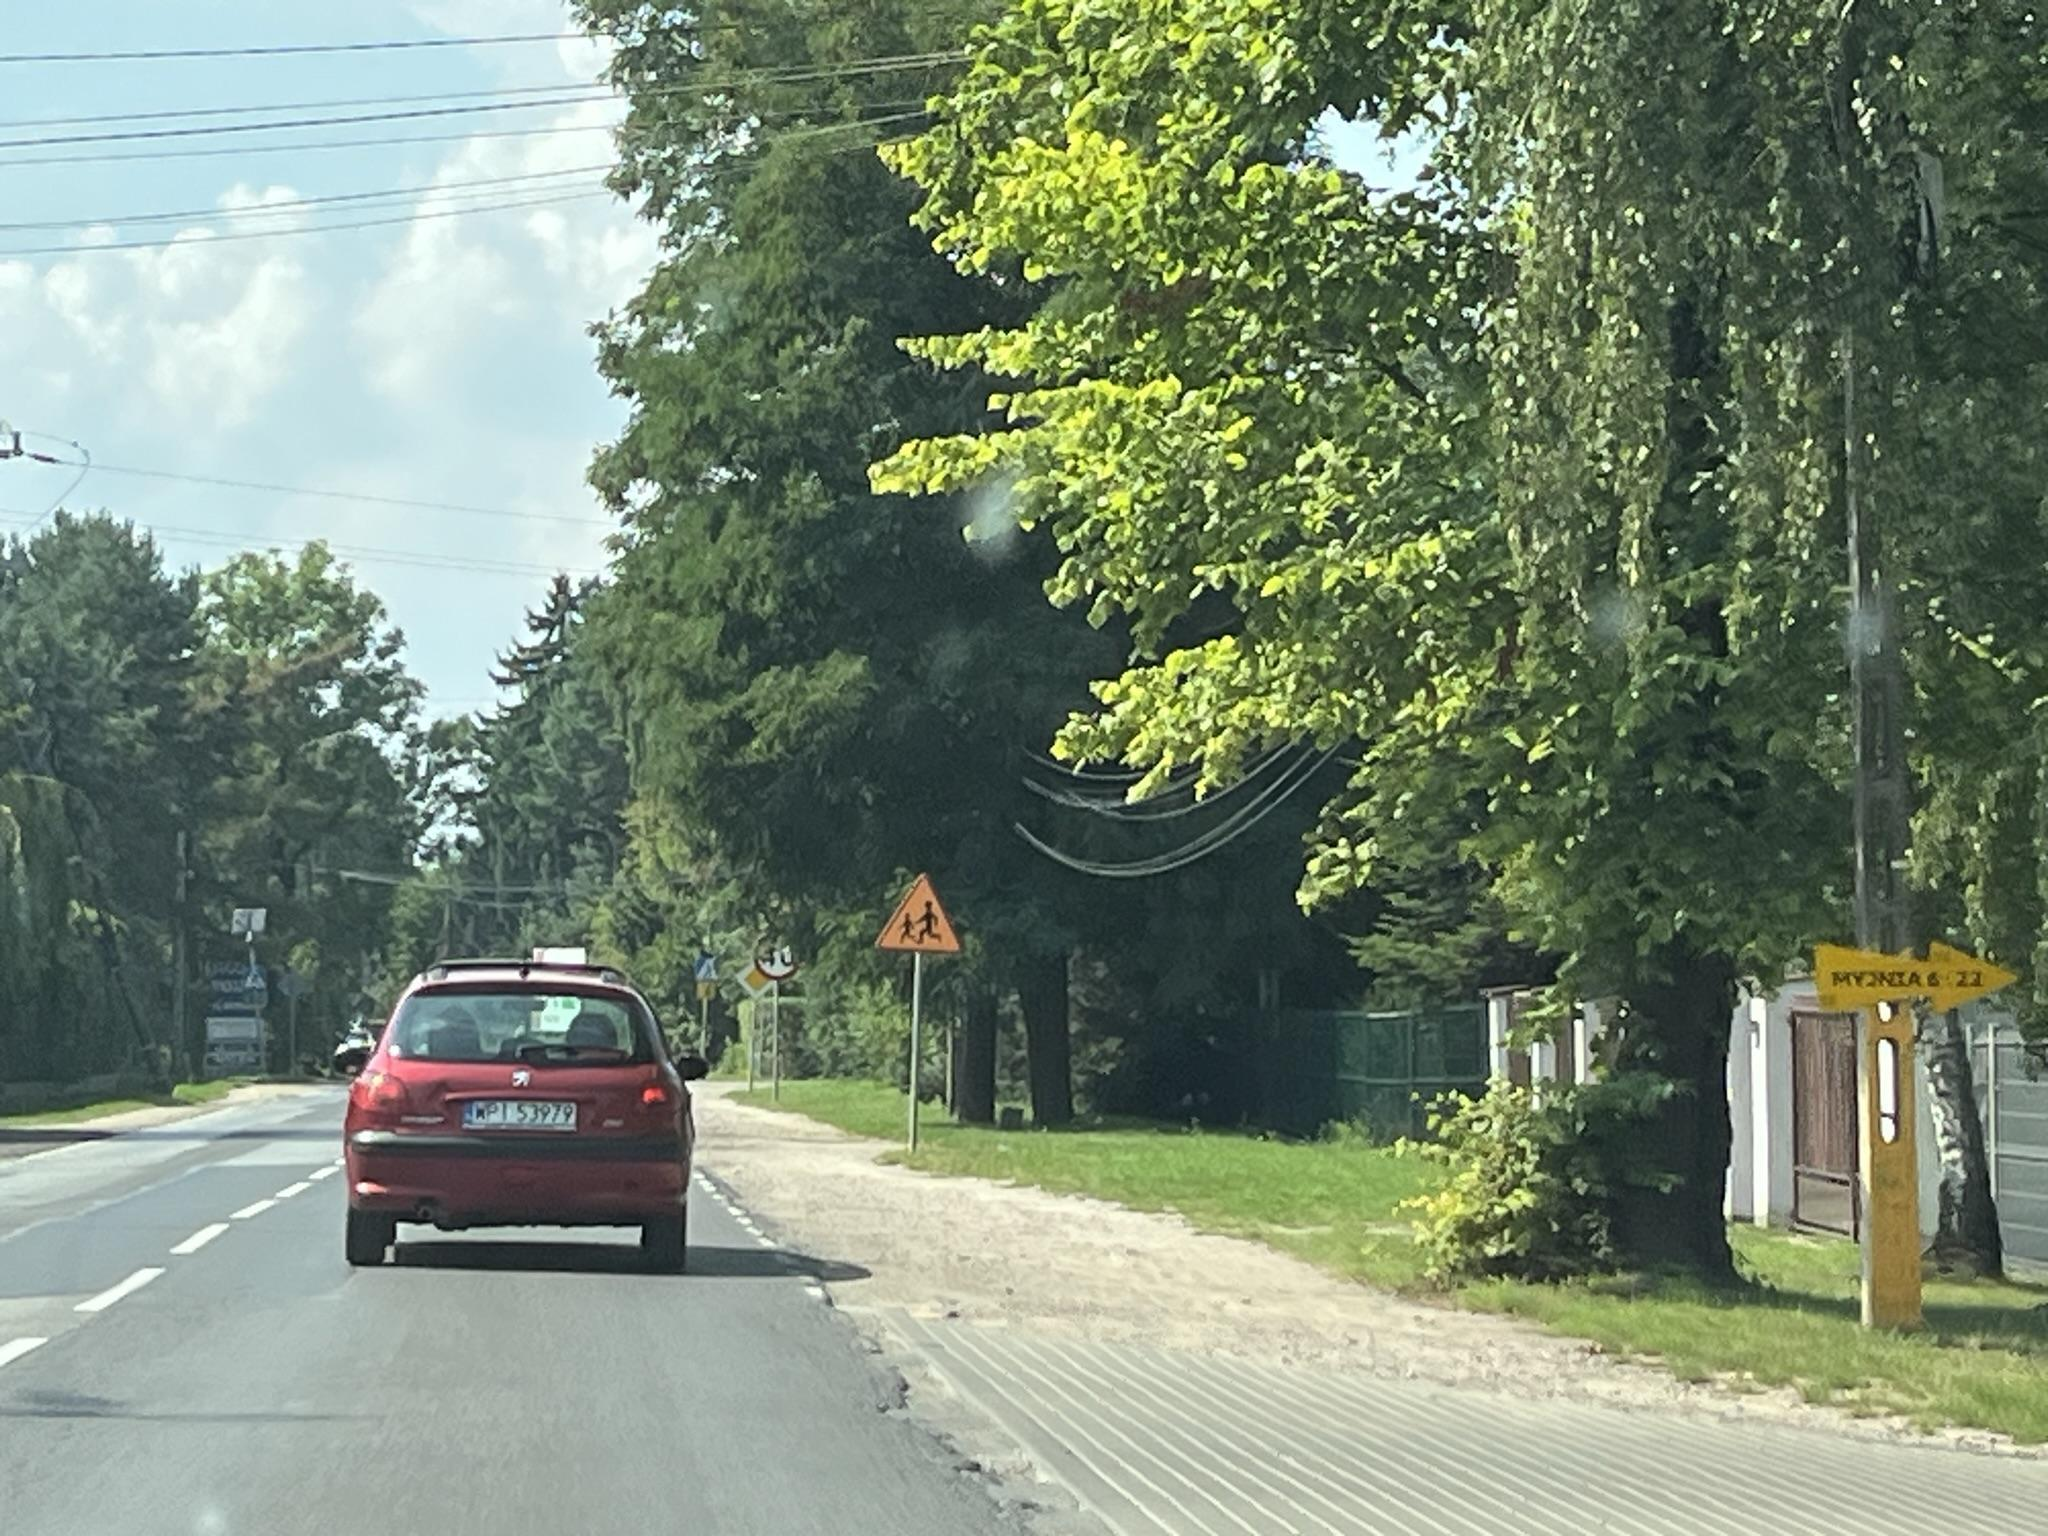warning: (871, 870, 964, 955)
